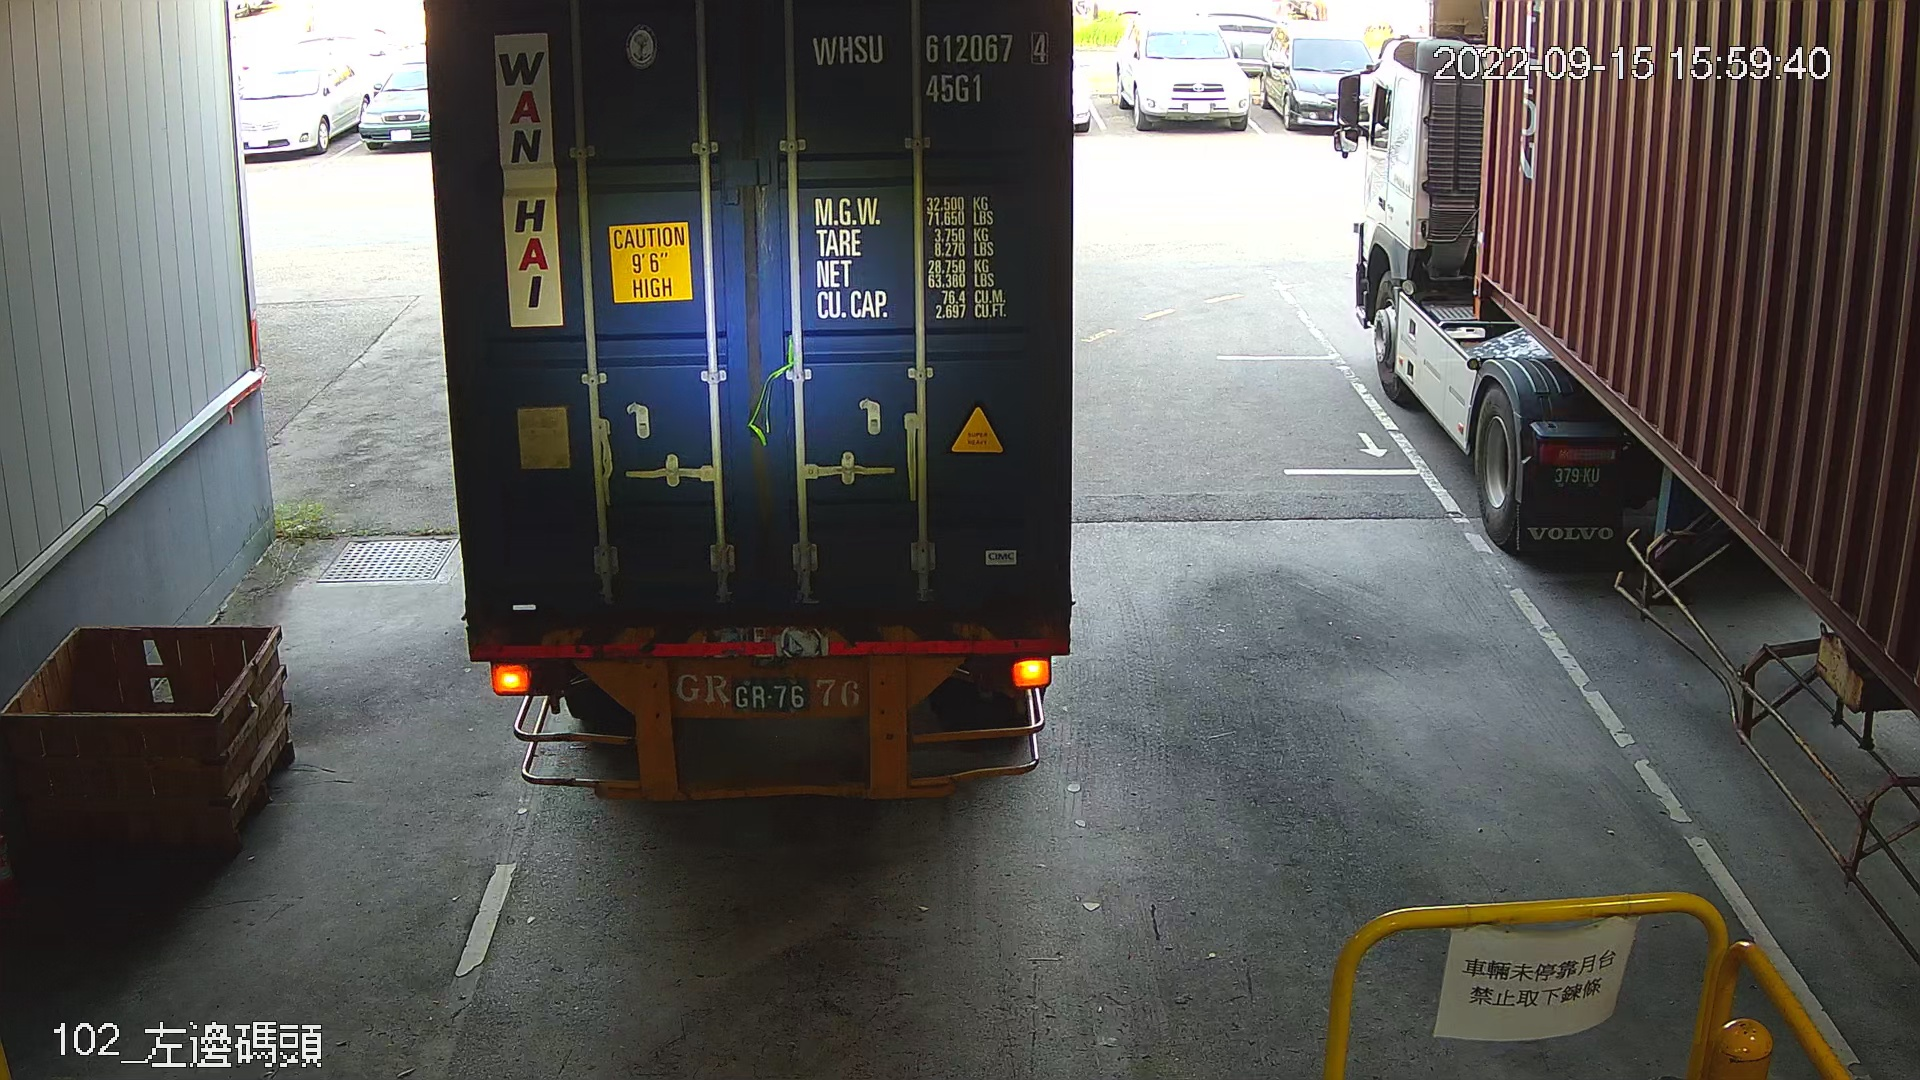container: (800, 22, 1060, 111)
